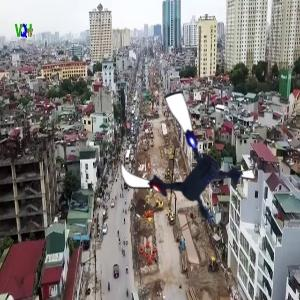drone: (114, 94, 255, 235)
